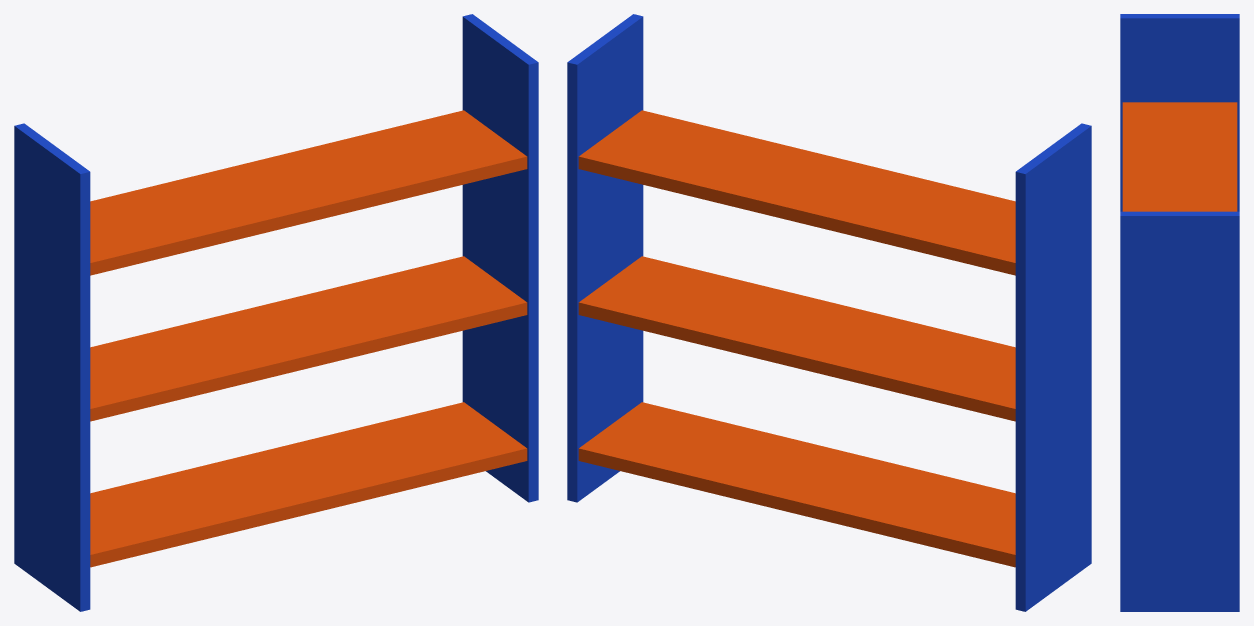
The model's file is warehouse-rack.glb.
3 renders of one model, left to right at view 1: azimuth 30°, elevation 25°; view 2: azimuth 150°, elevation 25°; view 3: azimuth 270°, elevation 25°, orthographic. The views are drawn at different scales.
Visible parts, largest first — view 1: Upright_Left, Level_02, Level_03, Level_01, Upright_Right; view 2: Upright_Left, Level_02, Level_03, Level_01, Upright_Right; view 3: Upright_Right, Level_03, Upright_Left.
Part boxes in pixels (x1,y1,x2,y2): Upright_Left: [14, 123, 90, 611]; Level_02: [90, 256, 527, 421]; Level_03: [90, 110, 527, 275]; Level_01: [90, 402, 527, 567]; Upright_Right: [462, 14, 538, 502]; Upright_Left: [1015, 123, 1091, 611]; Level_02: [578, 256, 1015, 421]; Level_03: [578, 110, 1015, 275]; Level_01: [578, 402, 1015, 567]; Upright_Right: [567, 14, 643, 502]; Upright_Right: [1120, 211, 1239, 611]; Level_03: [1122, 102, 1237, 211]; Upright_Left: [1120, 14, 1239, 211].
Size of the model in its own units: 4.6 by 4.2 by 1.15.
